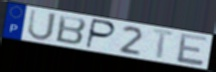2: (119, 26, 145, 56)
B: (54, 13, 88, 46)
E: (176, 32, 209, 67)
P: (84, 17, 117, 50)
T: (150, 28, 178, 61)
U: (26, 8, 58, 42)
